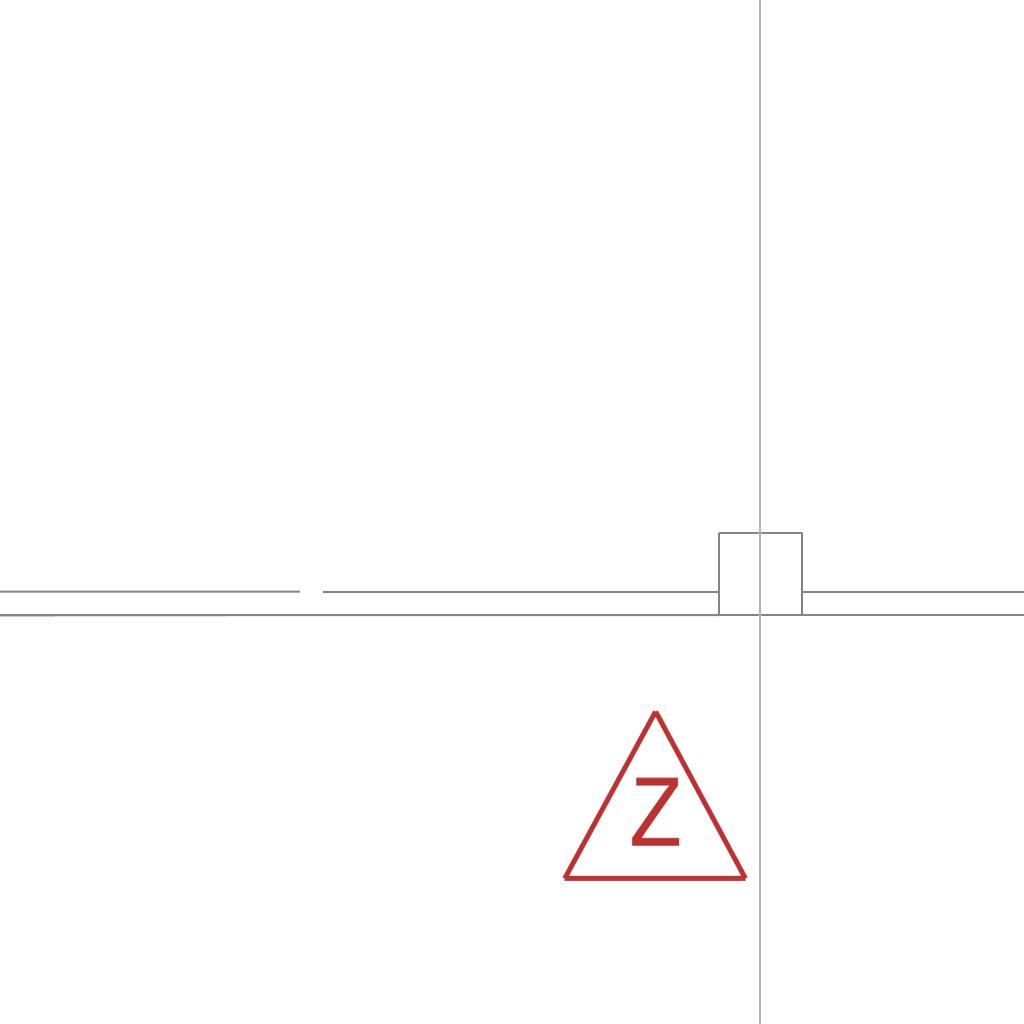Zimmersignalleuchte: (555, 696, 751, 896)
